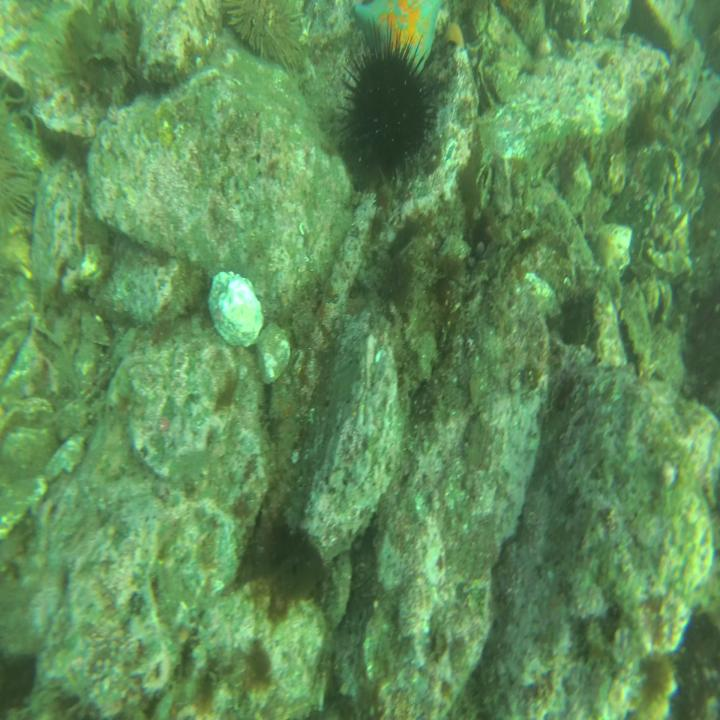echinus: (339, 38, 442, 182)
starfish: (350, 0, 443, 84)
